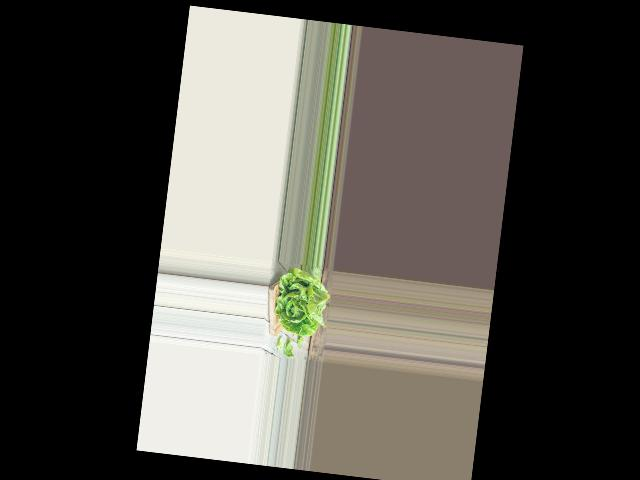lettuce: (270, 264, 331, 335)
